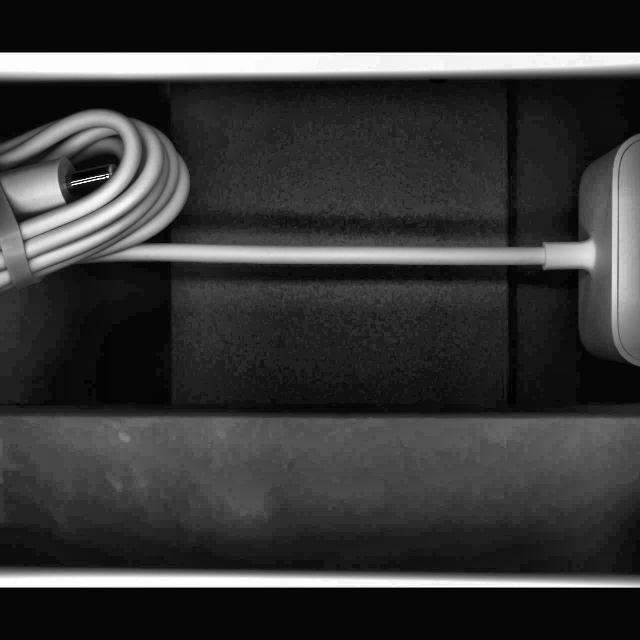Cable: (0, 105, 640, 374)
